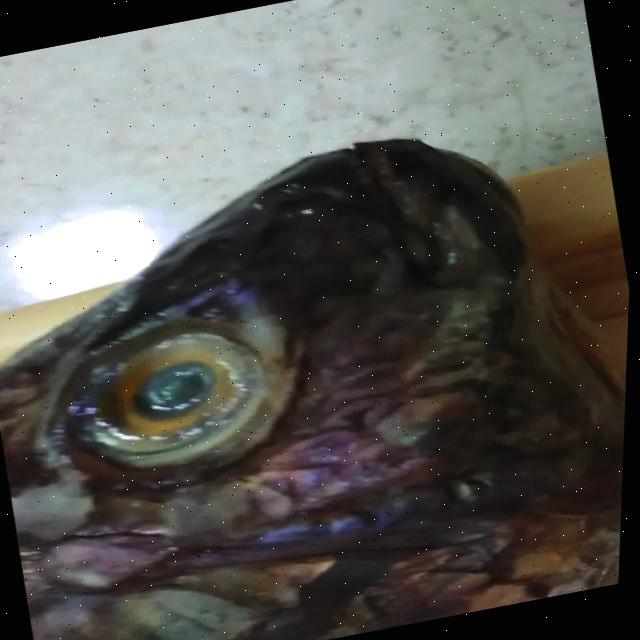Non-Fresh: (71, 302, 298, 488)
